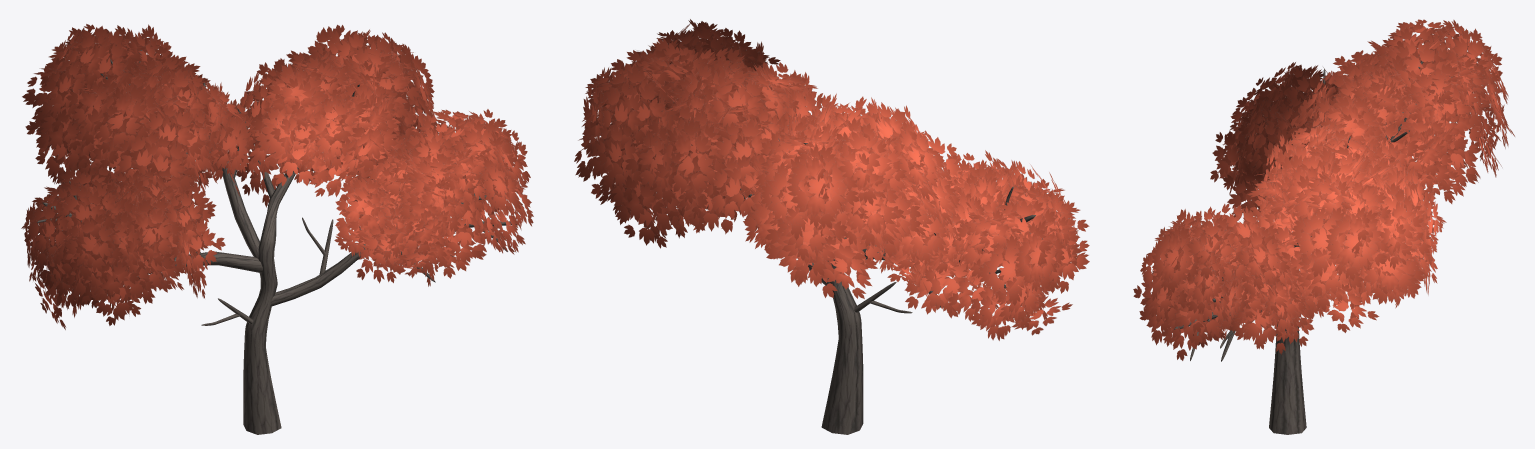
Rendered from MapleTree_3.gltf.
The picture shows the model from 3 angles, left to right: view 1: azimuth 30°, elevation 25°; view 2: azimuth 150°, elevation 25°; view 3: azimuth 270°, elevation 25°; orthographic projection. The views are drawn at different scales.
Parts seen in each view (by area): view 1: MapleTree_3; view 2: MapleTree_3; view 3: MapleTree_3.
Boxes of the visible parts, x1,y1,x2,y2 form: MapleTree_3: [21, 24, 533, 434]; MapleTree_3: [574, 19, 1089, 434]; MapleTree_3: [1133, 19, 1514, 434].
Size of the model in its own units: 8.98 by 6.99 by 6.61.
Materials: 2 (2 with a texture image).
